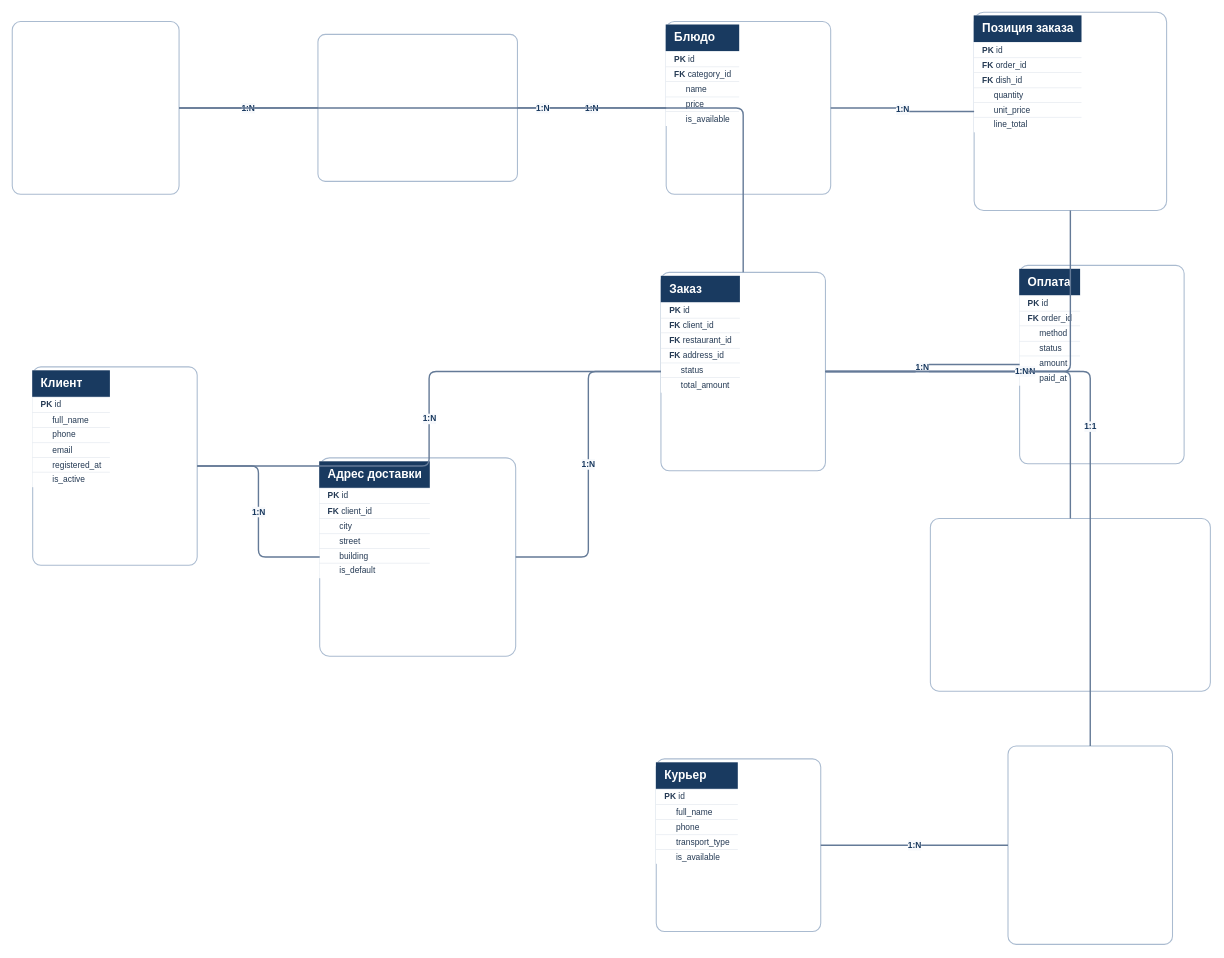
This 1224x958 diagram has some shape labels left out. The centre of each missing label's shape, as x and y in pixels:
"Доставка PK id FK order_id FK courier_id status assigned_at delivered_at" goes at point (1090, 845).
"Категория меню PK id FK restaurant_id name sort_order" goes at point (417, 108).
"Ресторан PK id name address phone is_accepting_orders" goes at point (95, 107).
"Событие статуса заказа PK id FK order_id status changed_at note" goes at point (1070, 604).
